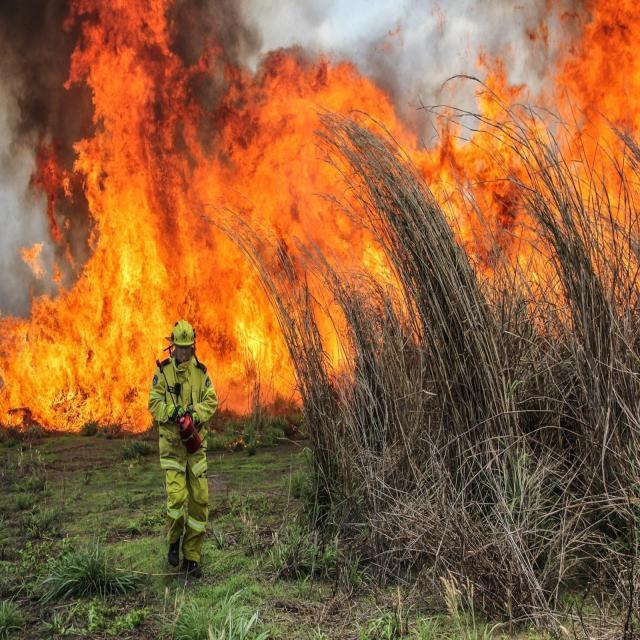Fire: (0, 0, 627, 413)
